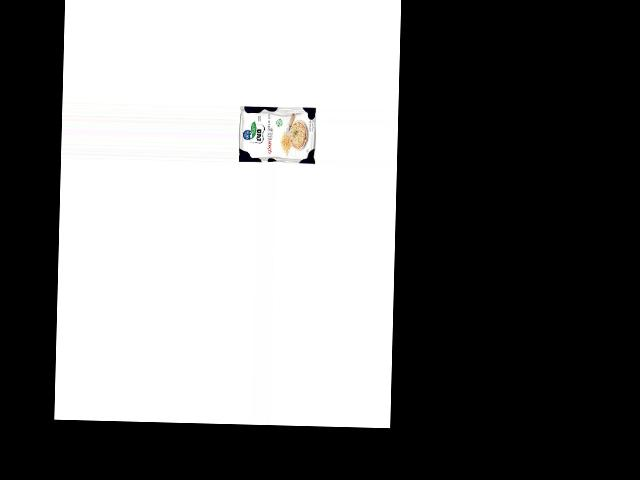cheese: (238, 104, 318, 165)
